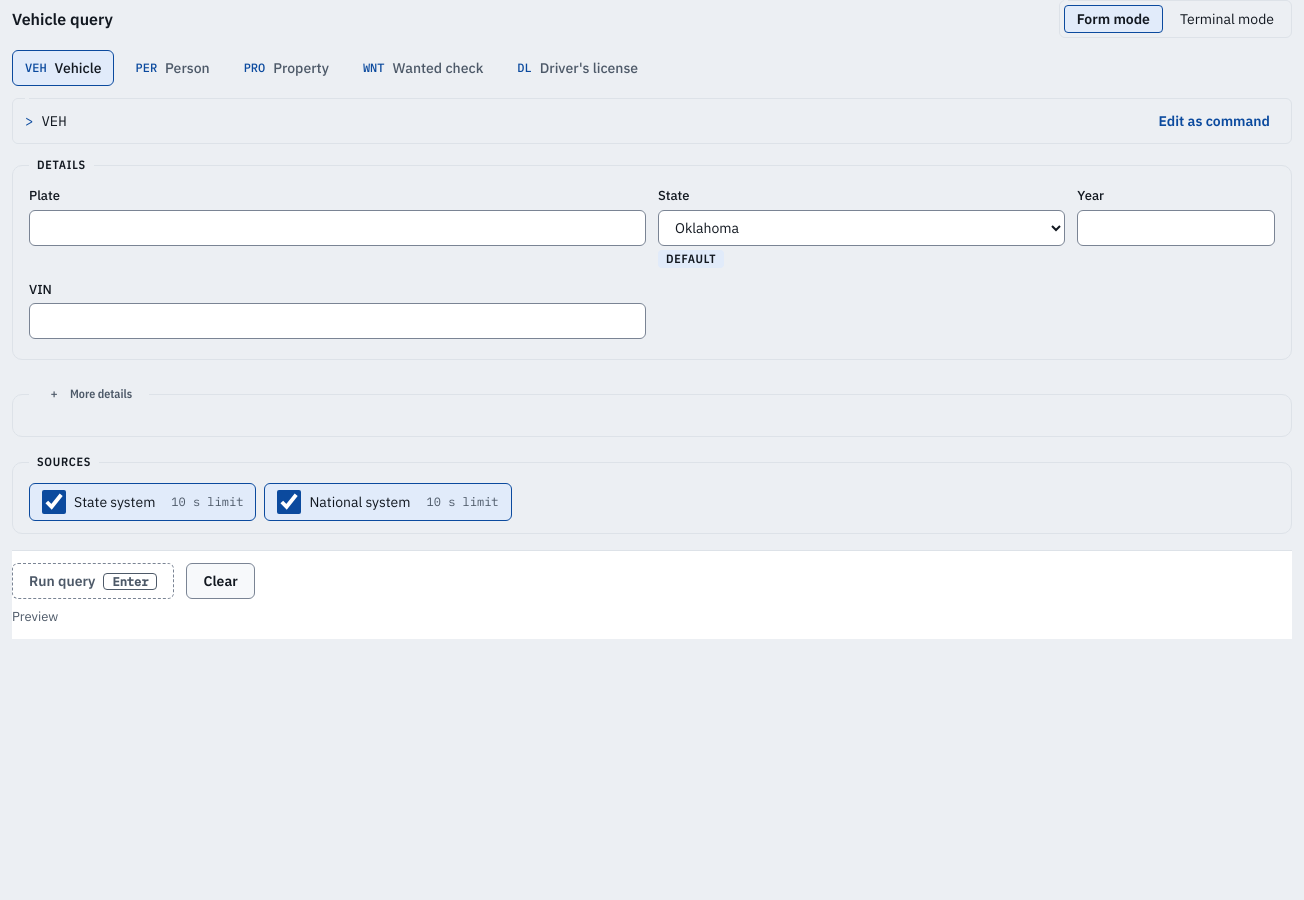
it: example-ok site through the shared renderer (BR-001) › terminal: the site's / delimiter and NAM order last/first/race/sex/dob (FR-052)
Click the button "PER Person".
click(173, 68)  # box left=122, top=50, right=223, bottom=86
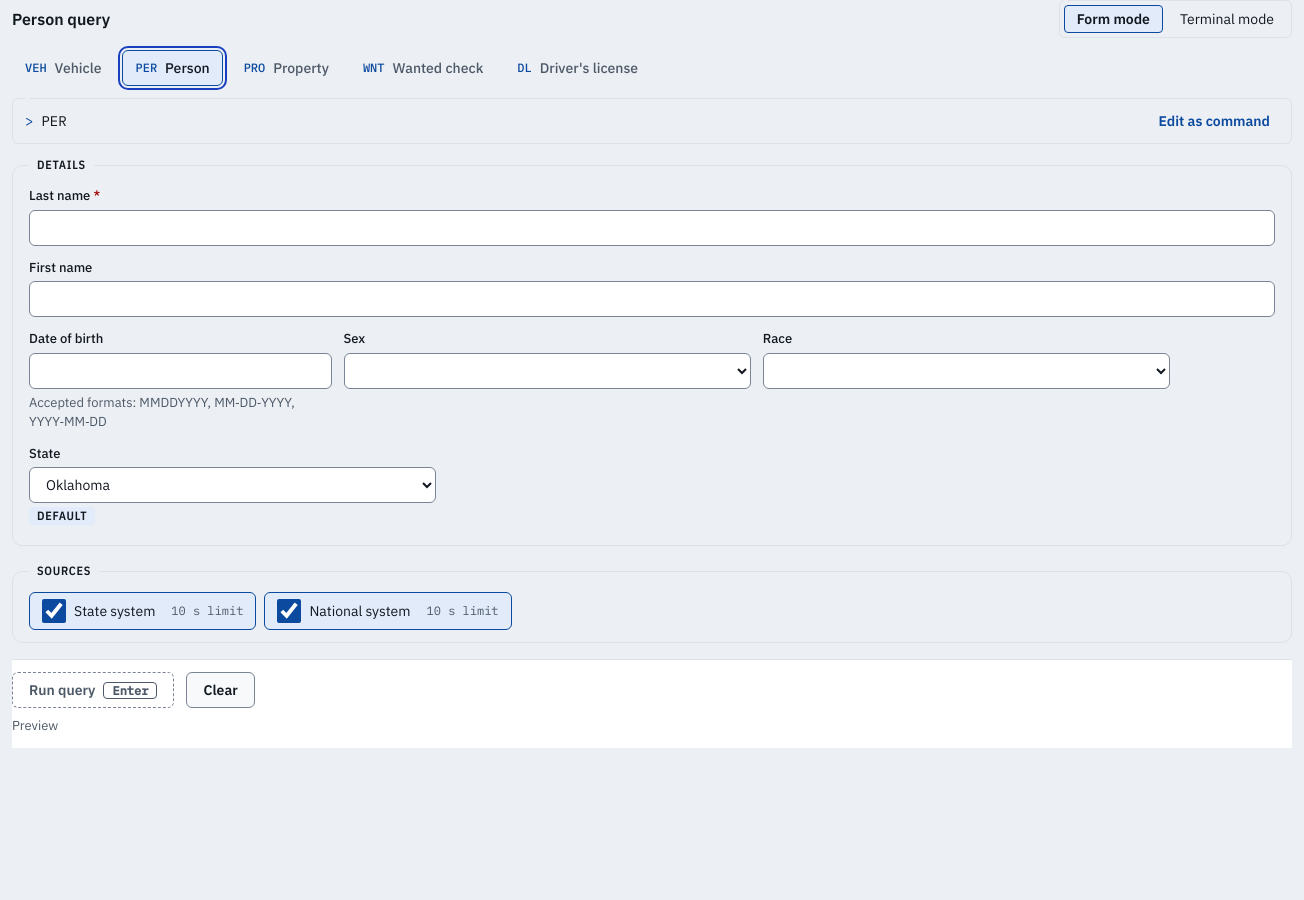
Click the button "Terminal mode".
click(1227, 19)  # box left=1167, top=5, right=1287, bottom=33
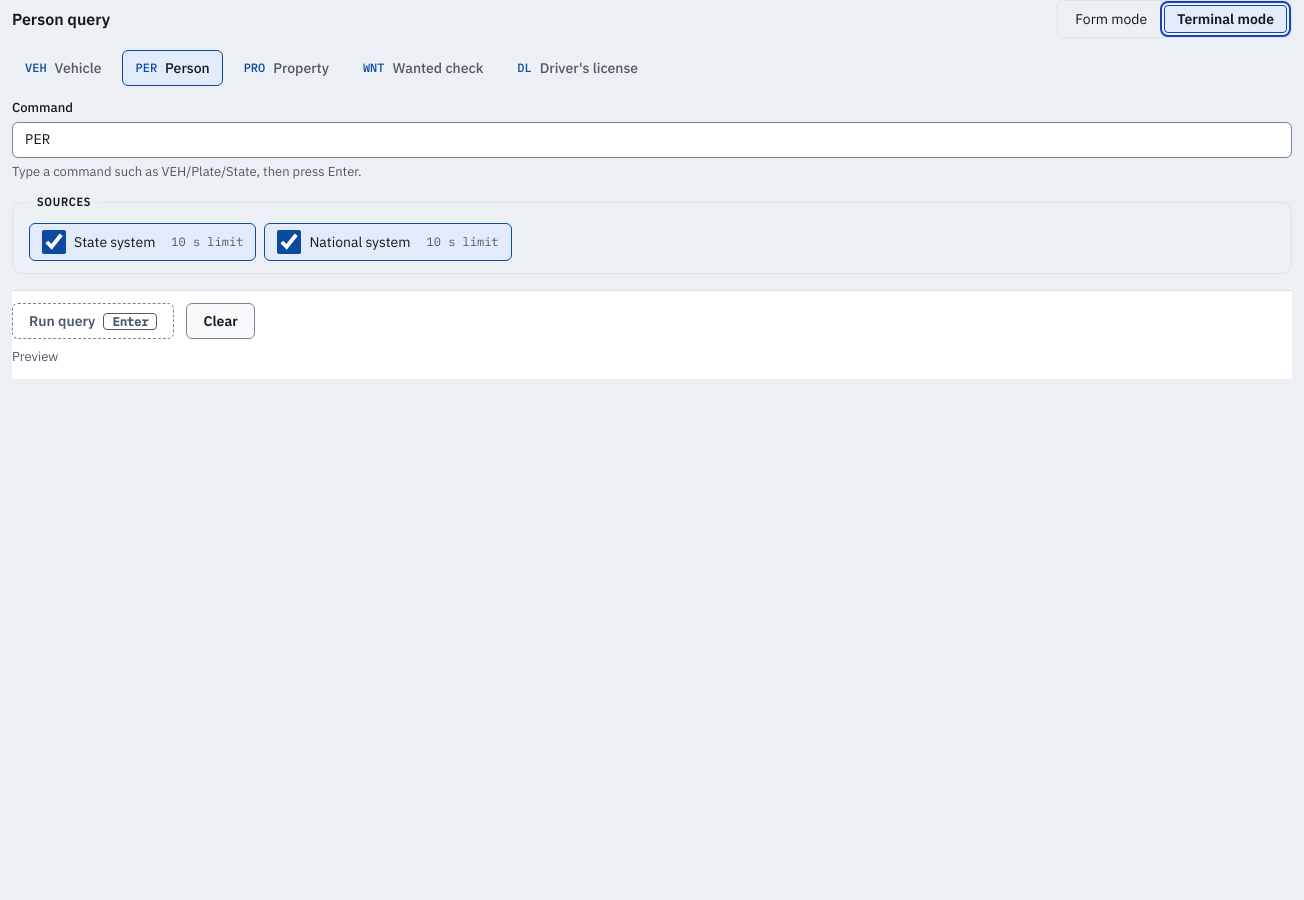
Expected: the text "Type a command such as VEH/Plate/State, then press Enter." is shown, left=12, top=162, right=362, bottom=180
Replace the text in the field labelled "Command" with "NAM/TESTERSON/SAMPLE/W/M/01011901" at (652, 140), box left=12, top=122, right=1292, bottom=158
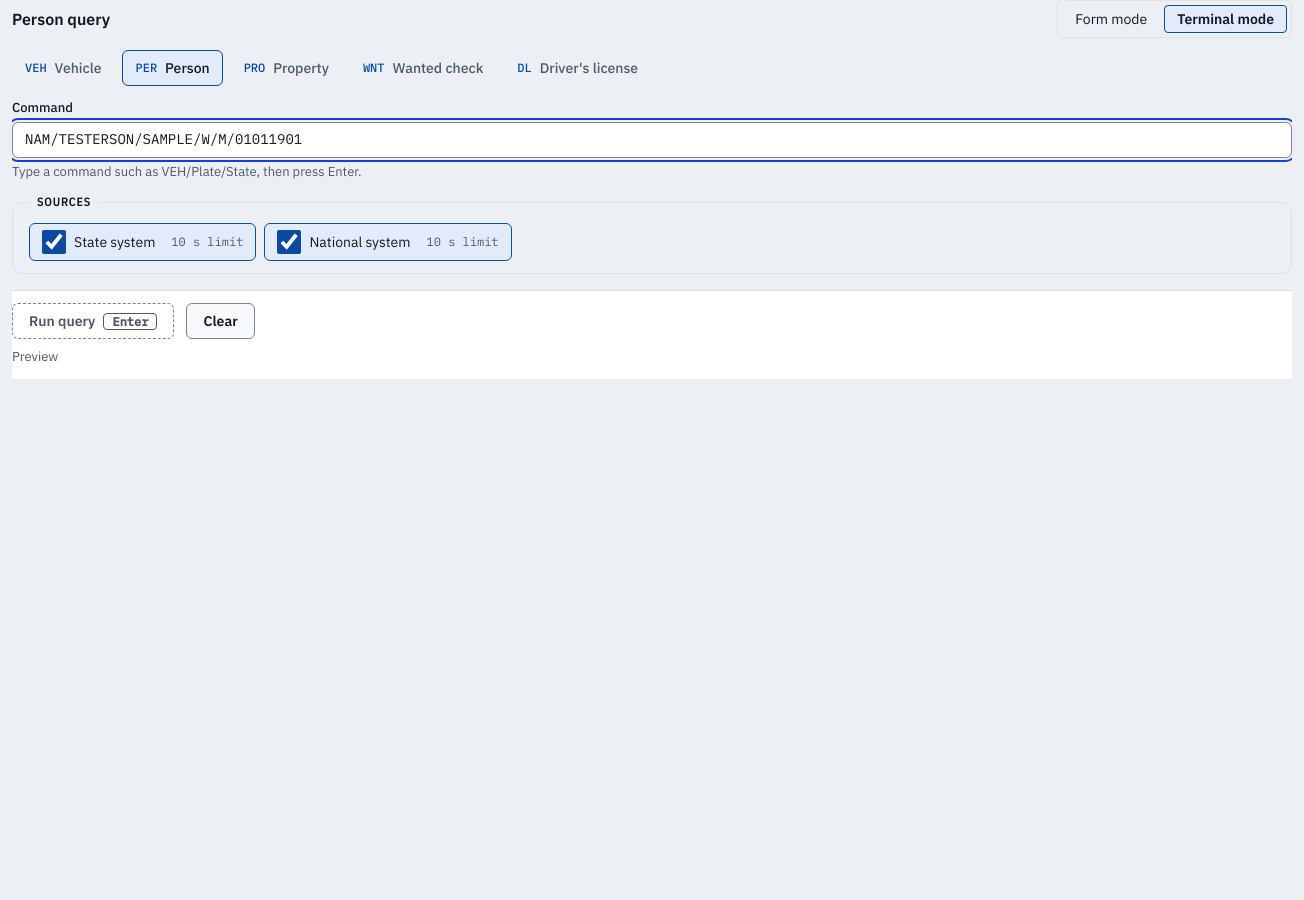
Back to the form: what the command read is merged into the Person draft.
Click the button "Form mode".
click(1111, 19)  # box left=1062, top=5, right=1160, bottom=33
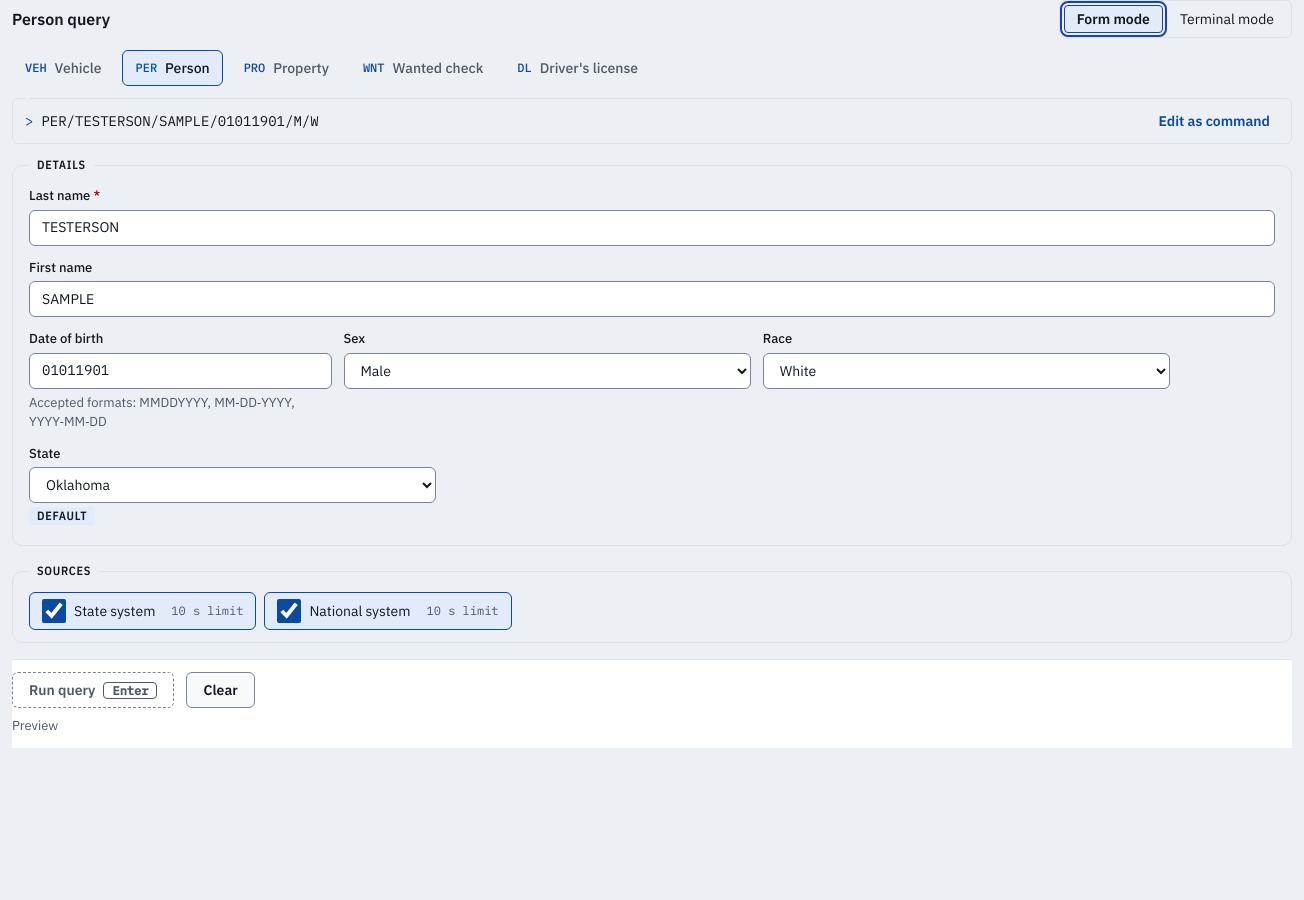
Expected: the field labelled "Last name *" holds "TESTERSON", left=29, top=210, right=1275, bottom=246
Expected: the field labelled "First name" holds "SAMPLE", left=29, top=281, right=1275, bottom=317
Expected: the dropdown labelled "Race" shows "White", left=763, top=352, right=1170, bottom=388
